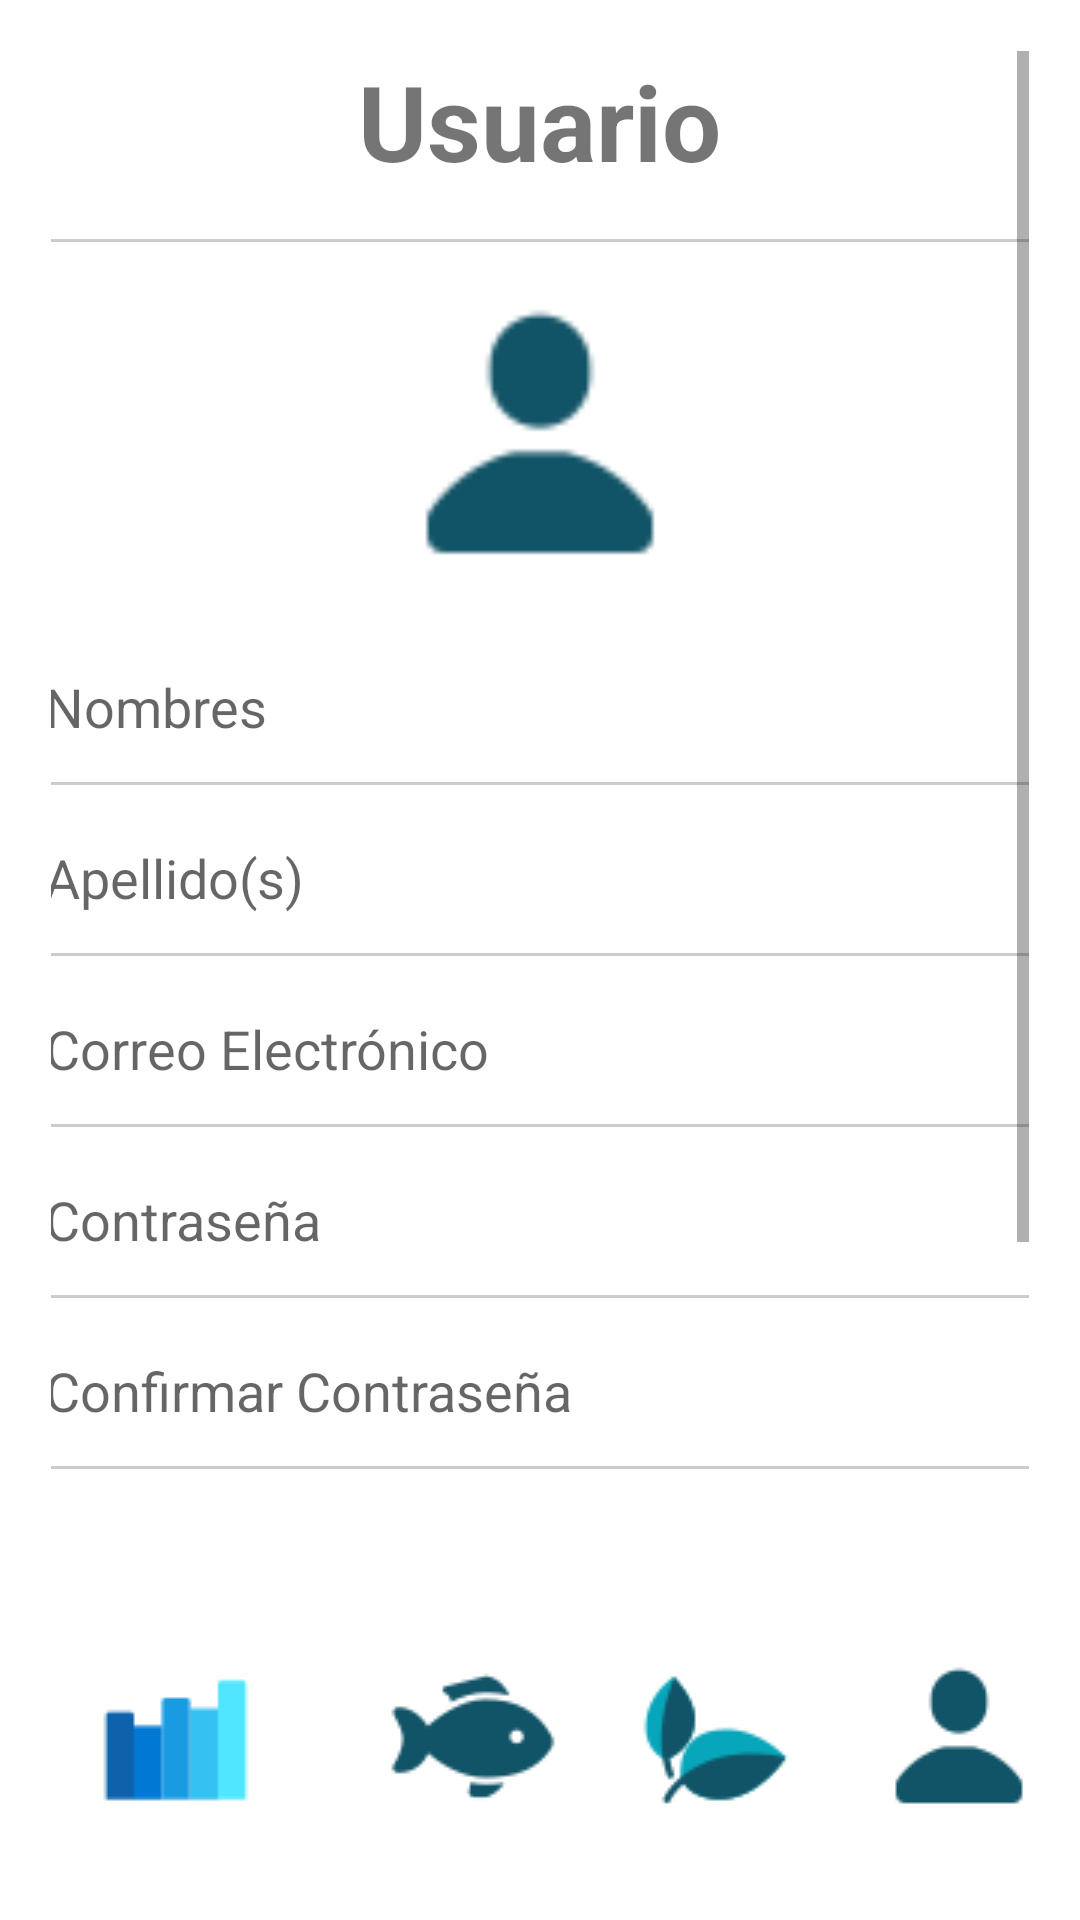

Screen size 1080*1920. Icon name, then its box in pixels as bbox(x1, y1, x2, y2):
Cuenta: bbox(895, 1668, 1023, 1804)
Cultivo: bbox(643, 1676, 787, 1804)
Estadísticas: bbox(103, 1679, 248, 1801)
Peces: bbox(391, 1674, 555, 1798)
